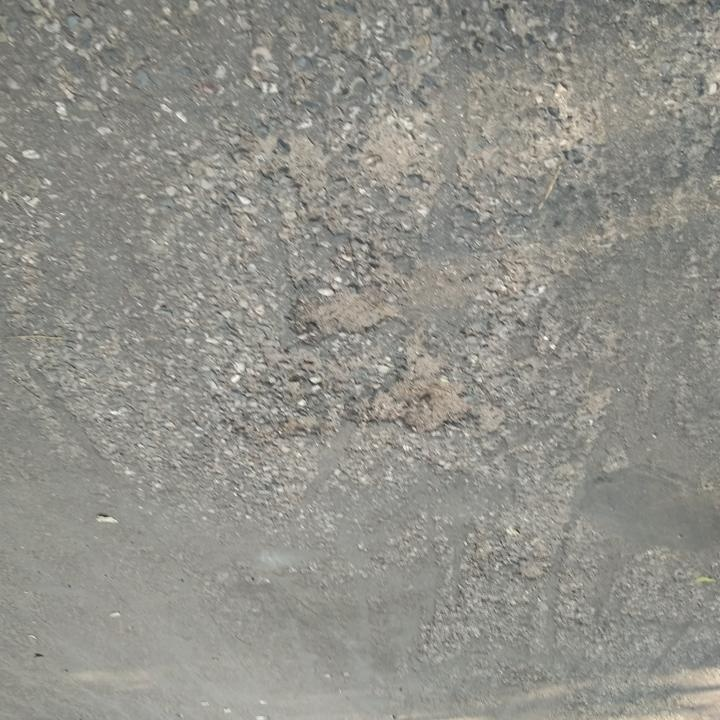pothole: (369, 345, 473, 435), (294, 289, 392, 343)
